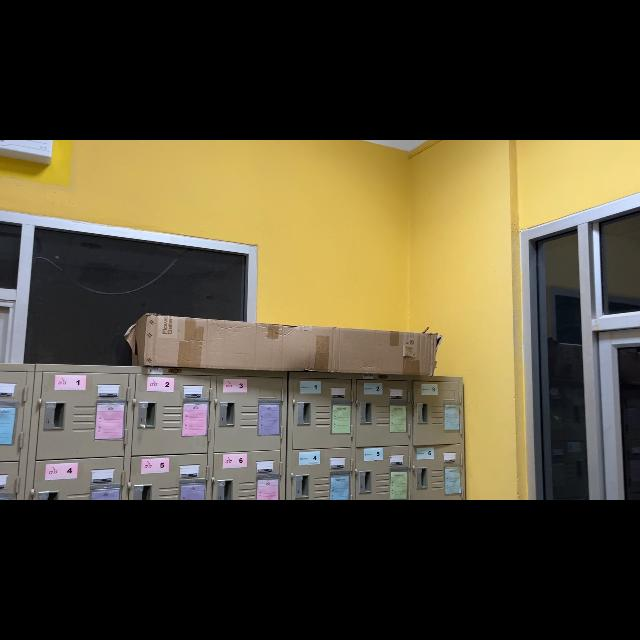cardboard_box: (118, 318, 446, 370)
